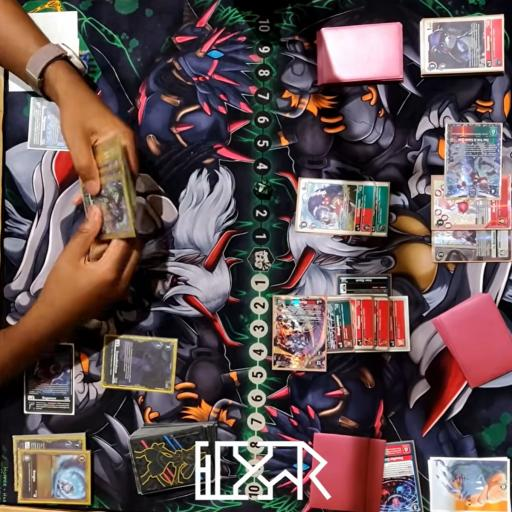card: (420, 13, 506, 77), (272, 295, 328, 377), (444, 125, 506, 199), (428, 174, 512, 228), (100, 338, 179, 394), (295, 181, 378, 233), (10, 429, 86, 484), (22, 340, 75, 416), (20, 452, 96, 503), (82, 172, 139, 240), (378, 431, 422, 512), (427, 226, 512, 263), (25, 99, 74, 149), (326, 297, 354, 355), (389, 296, 413, 353), (352, 294, 373, 353), (374, 295, 394, 355), (373, 184, 394, 238), (336, 276, 387, 297)
